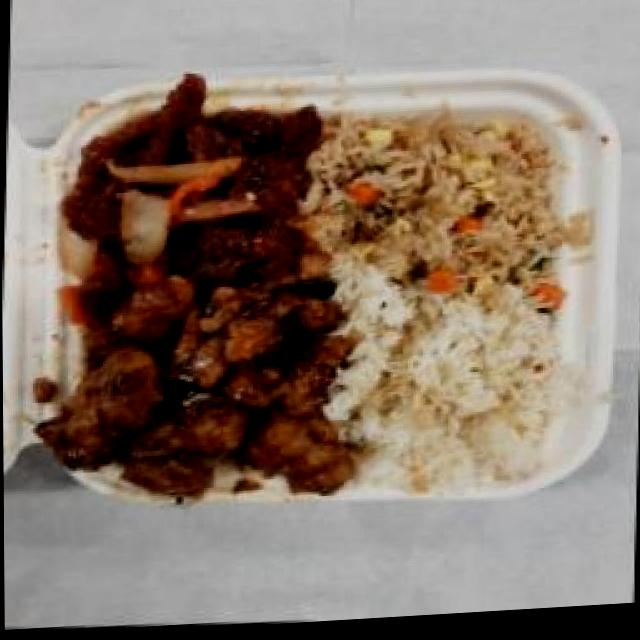Beijing Beef: (56, 78, 330, 295)
Fried Rice: (296, 101, 585, 337)
The Original Orange Chicken: (42, 260, 358, 513)
White Steamed Rice: (340, 299, 566, 502)
